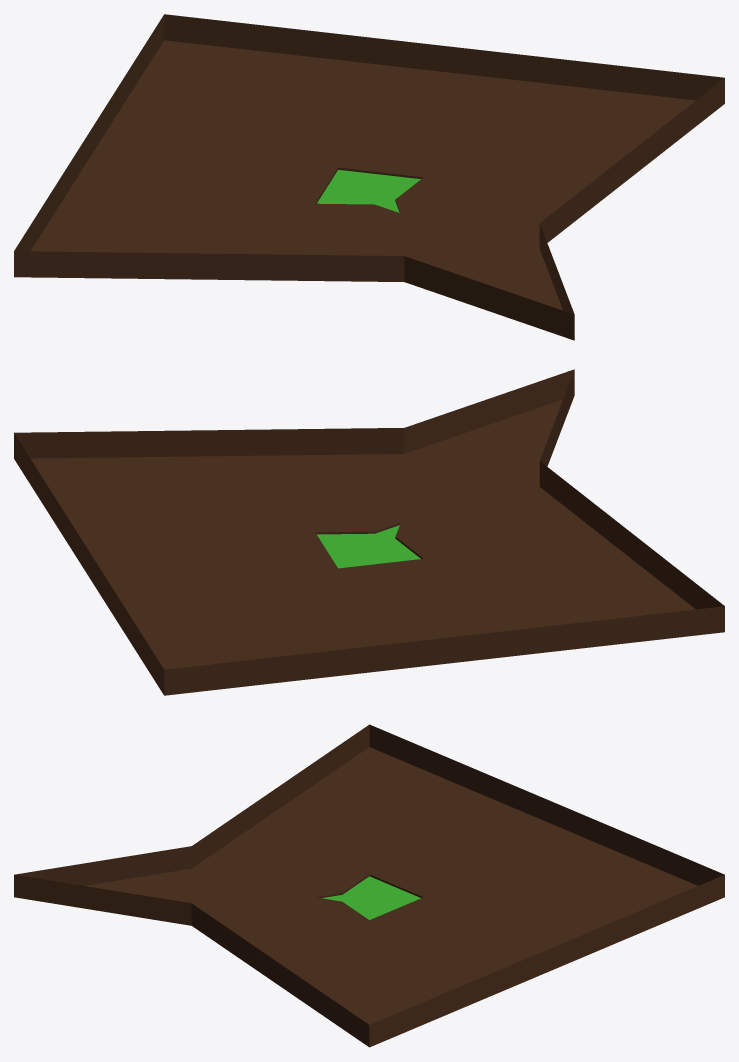
File: ground.glb
3 views of the same model, one above another, from view 1: azimuth 30°, elevation 25°; view 2: azimuth 150°, elevation 25°; view 3: azimuth 270°, elevation 25° (orthographic). The views are drawn at different scales.
Parts seen in each view (by area): view 1: Ground; view 2: Ground; view 3: Ground.
Boxes of the visible parts, box(x1,y1,x2,y2) form: Ground: box(14, 14, 724, 340); Ground: box(14, 369, 724, 695); Ground: box(14, 724, 724, 1047).
Size of the model in its own units: 887 by 33.69 by 887.
